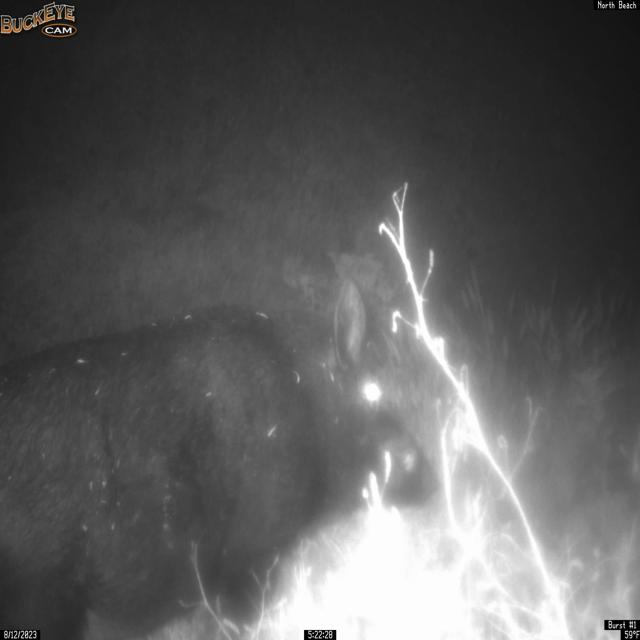pig: (0, 279, 442, 640)
